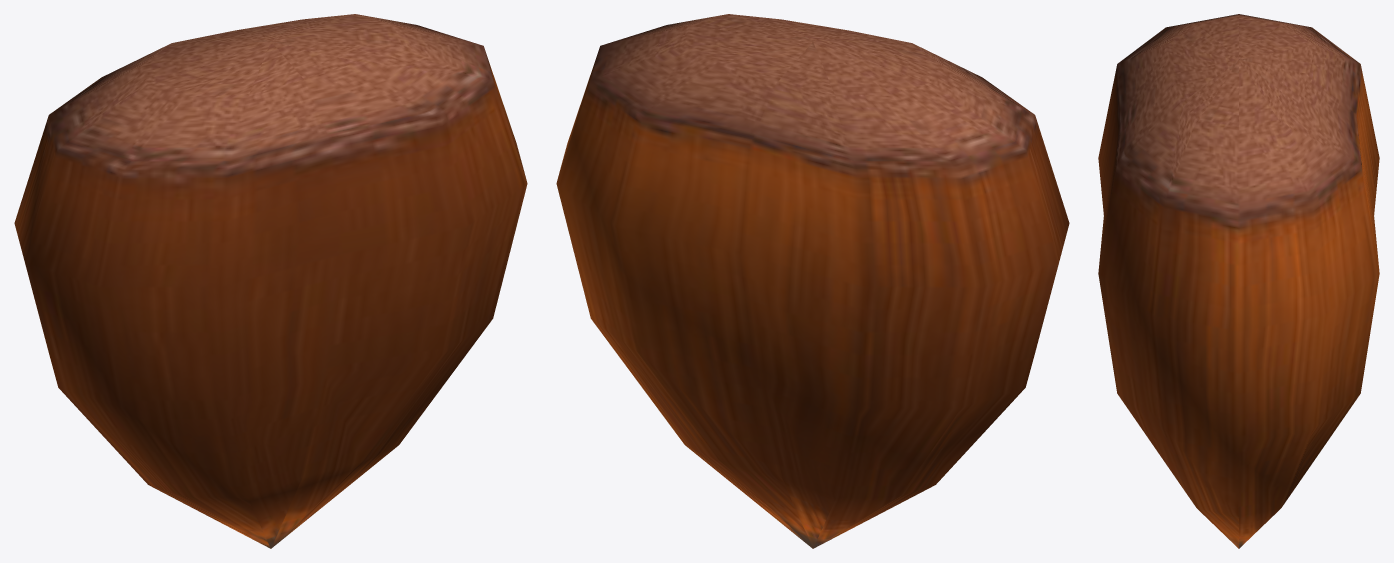
The model's file is semilla.FBX.
3 views of the same model, side by side, from view 1: azimuth 30°, elevation 25°; view 2: azimuth 150°, elevation 25°; view 3: azimuth 270°, elevation 25° (orthographic). The views are drawn at different scales.
Parts seen in each view (by area): view 1: semilla; view 2: semilla; view 3: semilla.
Boxes of the visible parts, x1,y1,x2,y2 form: semilla: (14,14,527,548); semilla: (556,14,1069,548); semilla: (1098,14,1379,548).
Bounding box in the file's own units: 62.93 × 62.1 × 32.38.
